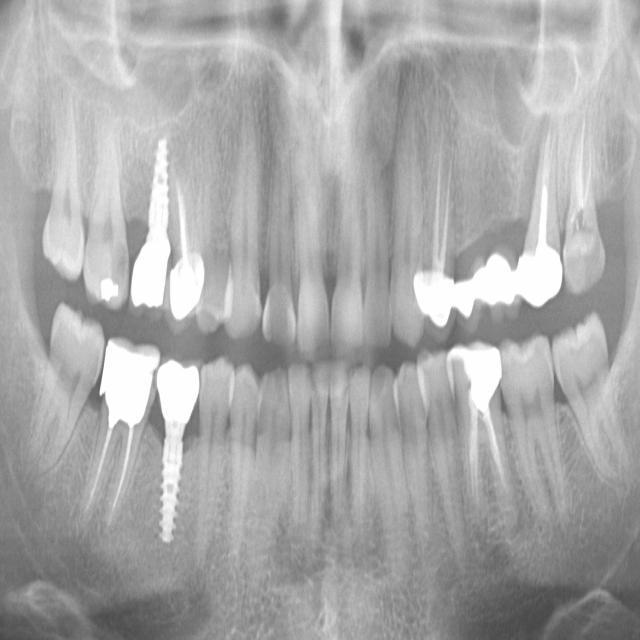infected-teeth: (73, 328, 162, 548), (446, 336, 521, 543), (412, 118, 461, 330), (513, 106, 558, 305), (165, 140, 205, 333), (562, 112, 603, 298)
